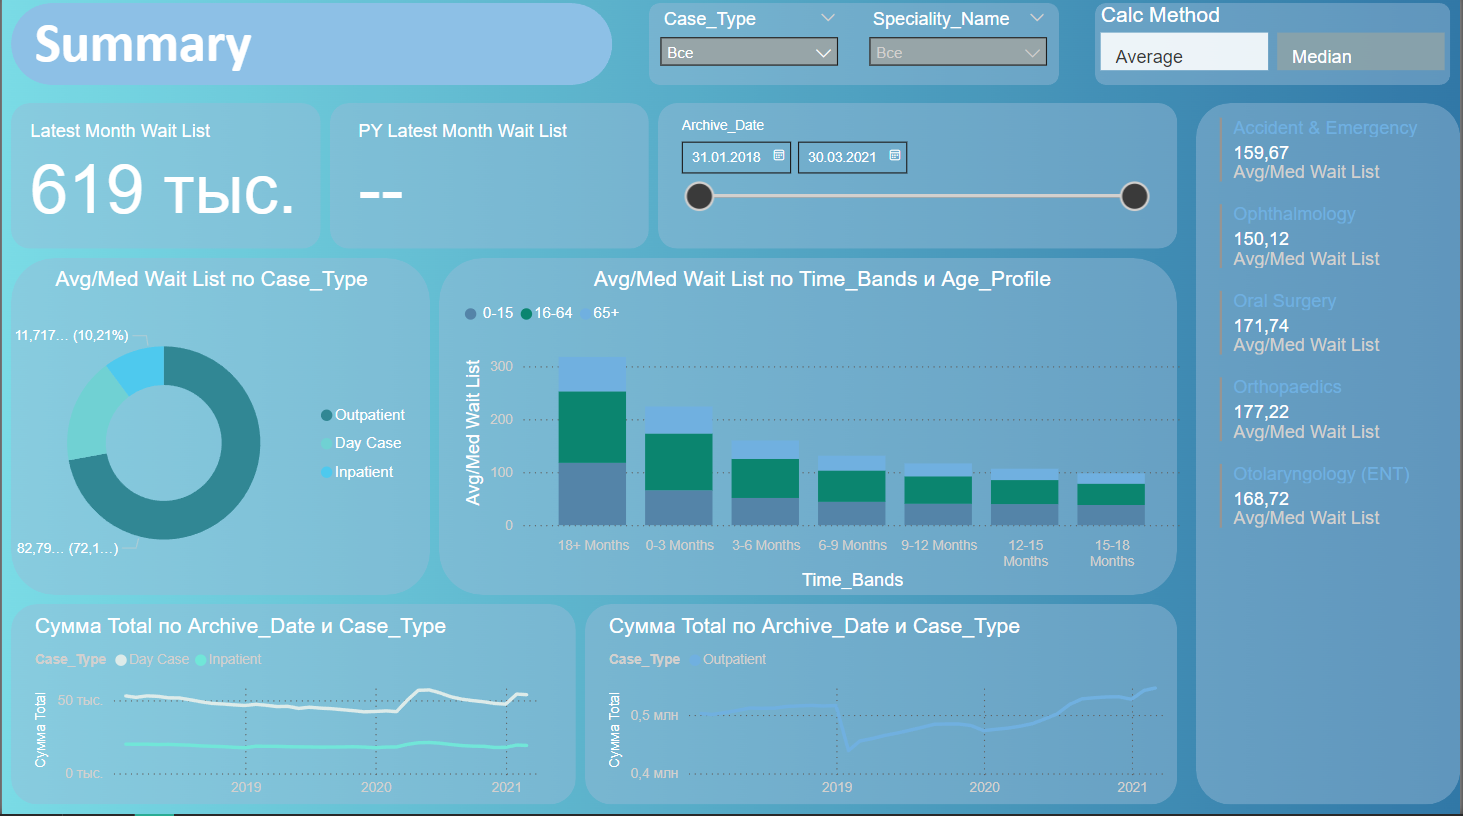

Layout of this report page (visuals, bound fields, positions):
{"tool":"powerbi","page":{"name":"Sammary","canvas":[1280,720],"ordinal":0},"visuals":[{"type":"shape","box":[8,8,528,72],"z":0},{"type":"shape","box":[960,8,312,72],"z":1000},{"type":"shape","box":[568,8,360,72],"z":2000},{"type":"shape","box":[8,536,496,176],"z":3000},{"type":"shape","box":[512,536,520,176],"z":4000},{"type":"shape","box":[1048,96,232,616],"z":5000},{"type":"shape","box":[384,232,648,296],"z":6000},{"type":"shape","box":[8,232,368,296],"z":7000},{"type":"shape","box":[8,96,272,128],"z":8000},{"type":"shape","box":[288,96,280,128],"z":9000},{"type":"shape","box":[576,96,456,128],"z":10000},{"type":"cardVisual","fields":{"Data":["All_Data.Latest Month Wait List"]},"box":[8,96,272,128],"z":11000},{"type":"cardVisual","fields":{"Data":["All_Data.PY Latest Month Wait List"]},"box":[296,96,272,128],"z":12000},{"type":"advancedSlicerVisual","fields":{"Values":["Calculation Method.Calc Method"]},"box":[960,8,312,64],"z":13000},{"type":"donutChart","fields":{"Y":["All_Data.Avg/Med Wait List"],"Category":["All_Data.Case_Type"]},"box":[0,240,368,288],"z":14000},{"type":"columnChart","fields":{"Y":["All_Data.Avg/Med Wait List"],"Category":["All_Data.Time_Bands"],"Series":["All_Data.Age_Profile"]},"box":[400,240,640,288],"z":15000},{"type":"multiRowCard","fields":{"Values":["All_Data.Speciality_Name","All_Data.Avg/Med Wait List"]},"box":[1064,104,208,608],"z":16000},{"type":"lineChart","fields":{"Category":["All_Data.Archive_Date"],"Y":["Sum(All_Data.Total)"],"Series":["All_Data.Case_Type"]},"box":[24,544,456,168],"z":17000},{"type":"lineChart","fields":{"Category":["All_Data.Archive_Date"],"Y":["Sum(All_Data.Total)"],"Series":["All_Data.Case_Type"]},"box":[528,544,504,168],"z":18000},{"type":"slicer","fields":{"Values":["All_Data.Case_Type"]},"box":[568,8,176,64],"z":19000},{"type":"slicer","fields":{"Values":["All_Data.Speciality_Name"]},"box":[752,8,176,64],"z":20000},{"type":"textbox","box":[24,8,520,80],"z":21000},{"type":"slicer","fields":{"Values":["All_Data.Archive_Date"]},"box":[584,104,432,112],"z":22000}]}

Visuals, with their boxes in screenshot pixels (x1, y1, x2, y2), scaled from the page's 1280x720 canvas onto the 1463x816 screenshot:
shape: (9,9,613,91)
shape: (1097,9,1454,91)
shape: (649,9,1061,91)
shape: (9,607,576,807)
shape: (585,607,1180,807)
shape: (1198,109,1462,807)
shape: (439,263,1180,598)
shape: (9,263,430,598)
shape: (9,109,320,254)
shape: (329,109,649,254)
shape: (658,109,1180,254)
cardVisual - All_Data.Latest Month Wait List: (9,109,320,254)
cardVisual - All_Data.PY Latest Month Wait List: (338,109,649,254)
advancedSlicerVisual - Calculation Method.Calc Method: (1097,9,1454,82)
donutChart - All_Data.Avg/Med Wait List x All_Data.Case_Type: (0,272,421,598)
columnChart - All_Data.Avg/Med Wait List x All_Data.Time_Bands: (457,272,1189,598)
multiRowCard - All_Data.Speciality_Name x All_Data.Avg/Med Wait List: (1216,118,1454,807)
lineChart - All_Data.Archive_Date x Sum(All_Data.Total): (27,617,549,807)
lineChart - All_Data.Archive_Date x Sum(All_Data.Total): (603,617,1180,807)
slicer - All_Data.Case_Type: (649,9,850,82)
slicer - All_Data.Speciality_Name: (860,9,1061,82)
textbox: (27,9,622,100)
slicer - All_Data.Archive_Date: (667,118,1161,245)
